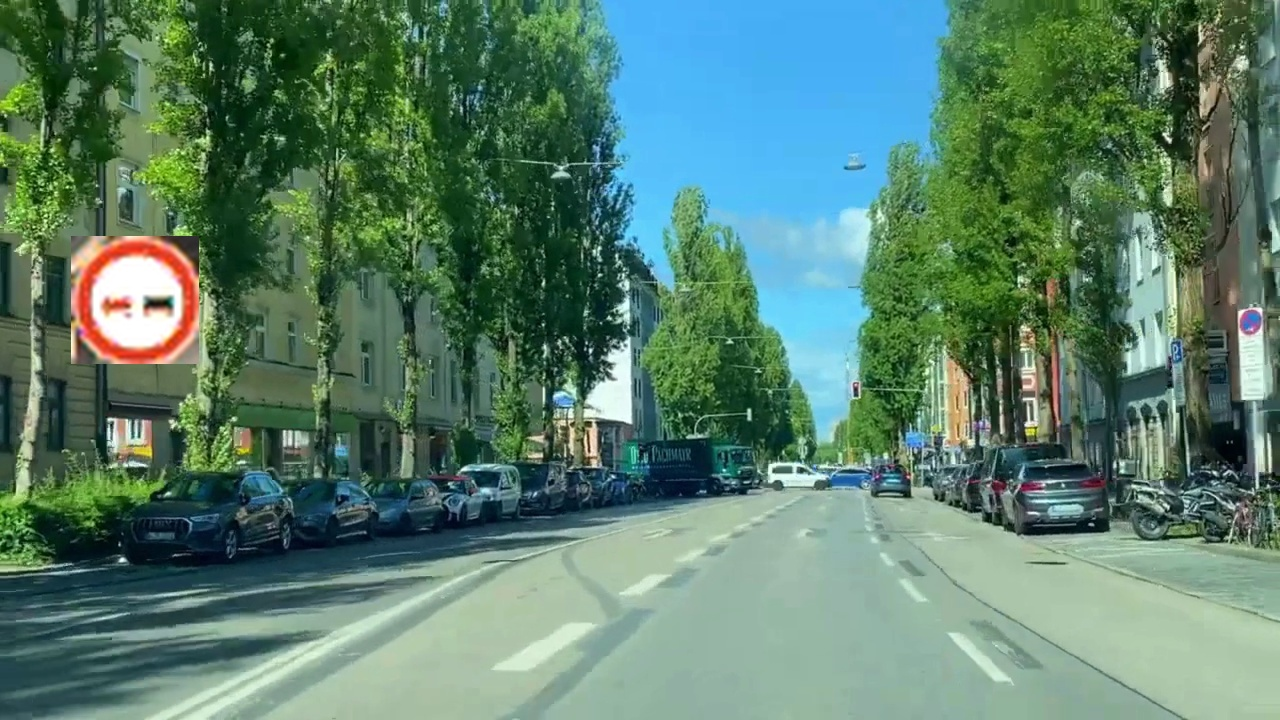No passing: (71, 236, 199, 364)
